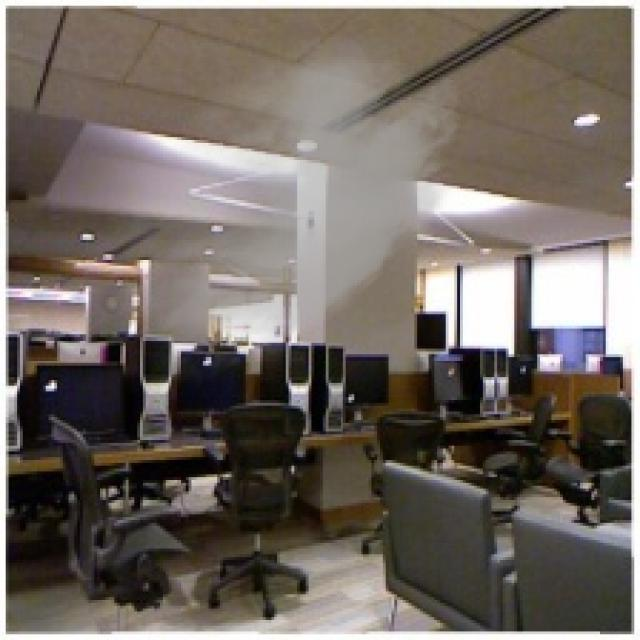Smoke: (72, 17, 474, 392)
